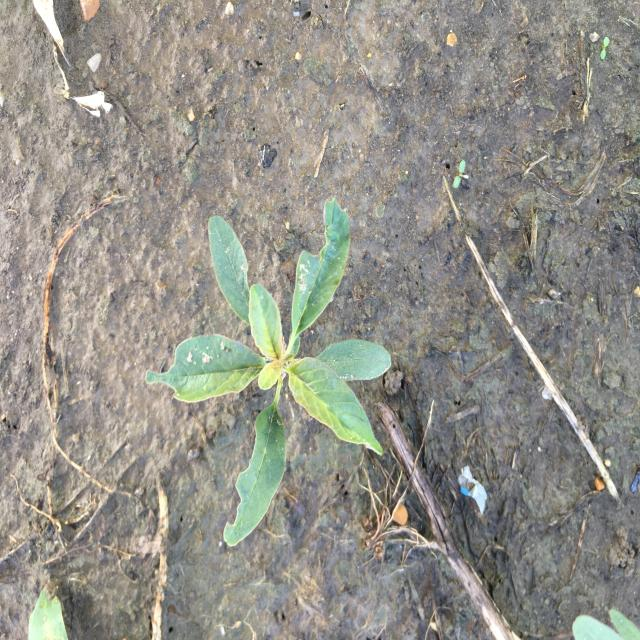Waterhemp: (143, 195, 394, 550)
